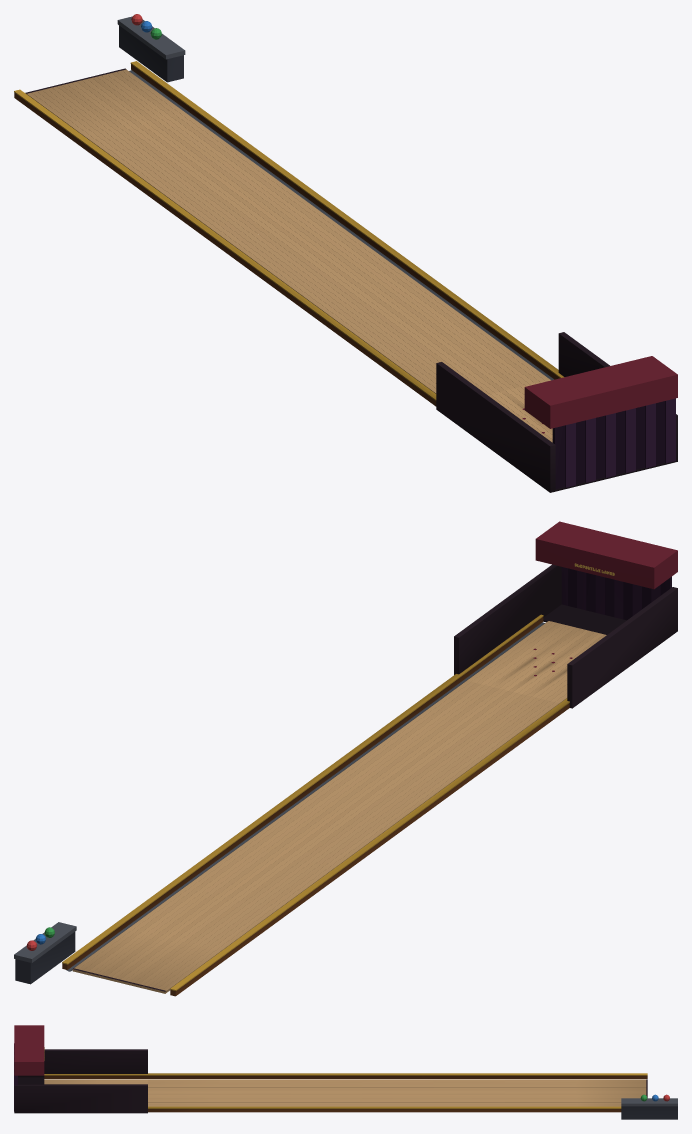
File: m_lane.glb
3 renders of one model, top to bottom at view 1: azimuth 30°, elevation 25°; view 2: azimuth 150°, elevation 25°; view 3: azimuth 270°, elevation 25°, orthographic. The views are drawn at different scales.
Visible parts, largest first — view 1: m_lane; view 2: m_lane; view 3: m_lane.
Part boxes in pixels (x1=…): m_lane: x1=14, y1=14, x2=677, y2=492; m_lane: x1=14, y1=521, x2=677, y2=996; m_lane: x1=14, y1=1025, x2=677, y2=1119.
Size of the model in its own units: 5.45 by 3.04 by 35.21.
